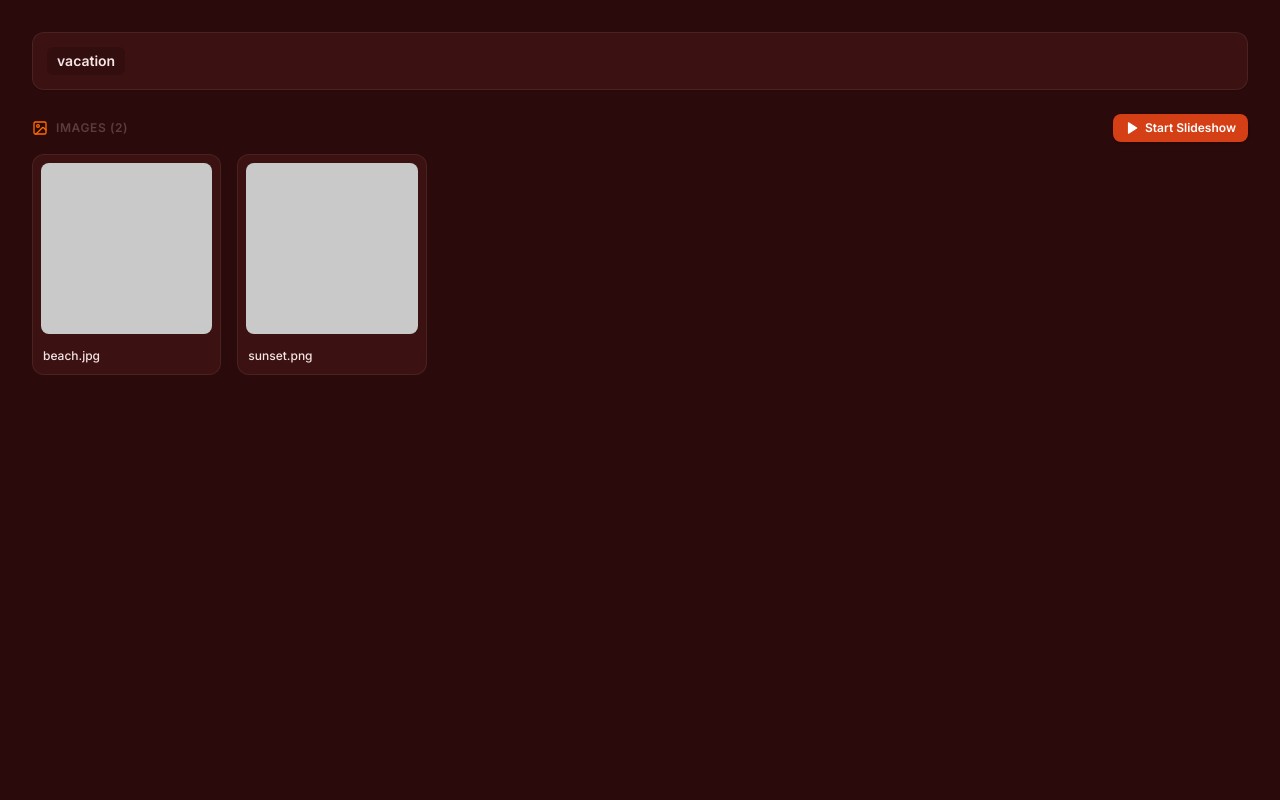
FolderBrowser Component › renders Images section and launches ImageViewerModal when clicking image or Start Slideshow
The image size is (1280, 800).
Check: the heading "Images (2)" is shown, box [56, 120, 128, 136]
Check: the text "beach.jpg" is shown, box [43, 348, 100, 363]
// Click "Start Slideshow" opens viewer
Click the button "Start Slideshow". click: point(1180, 128)
box: [1113, 114, 1248, 142]
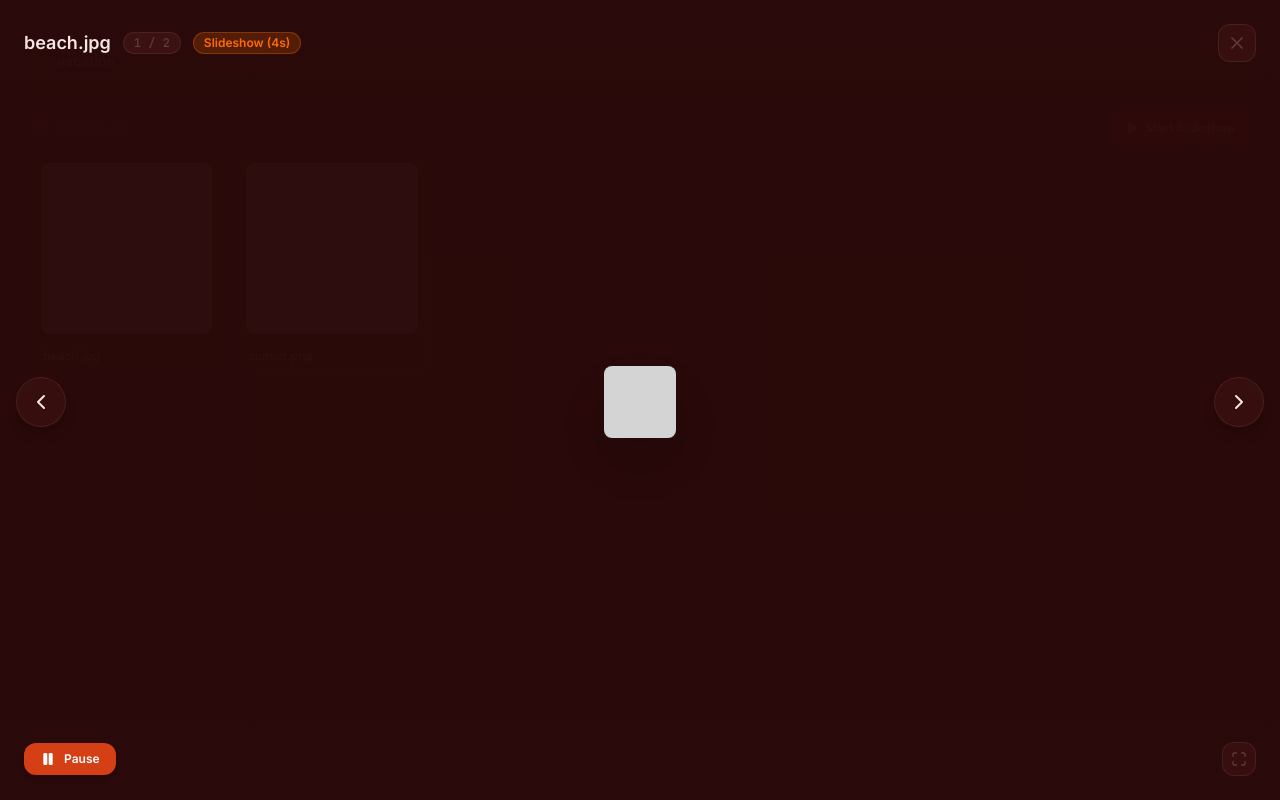
Check: the dialog named "image viewer" is shown
Check: the text "Slideshow (4s)" is shown, box [193, 32, 301, 54]
// Close viewer
Click the button named "close image viewer". click: point(1237, 43)
box: [1218, 24, 1256, 62]
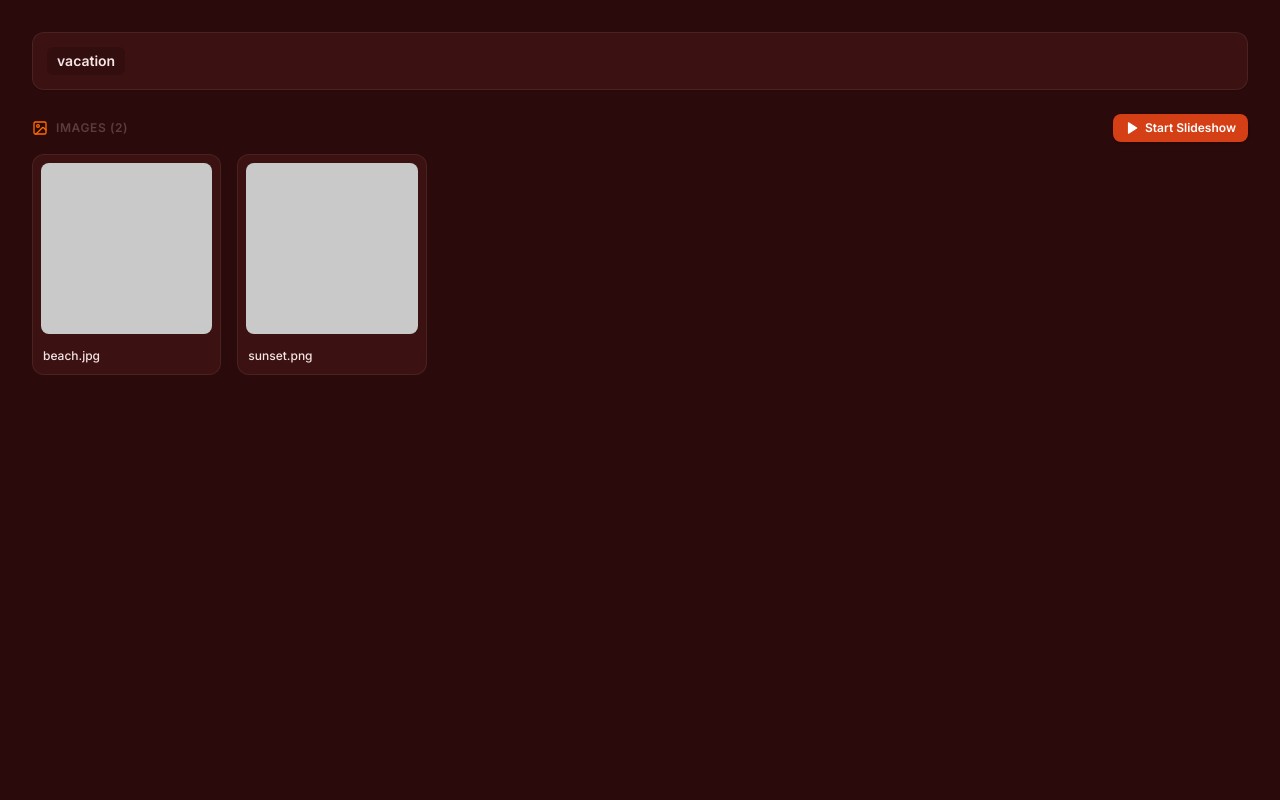
// Click individual image opens viewer at that image
Click the button "sunset.png". click: point(332, 265)
box: [237, 154, 427, 375]
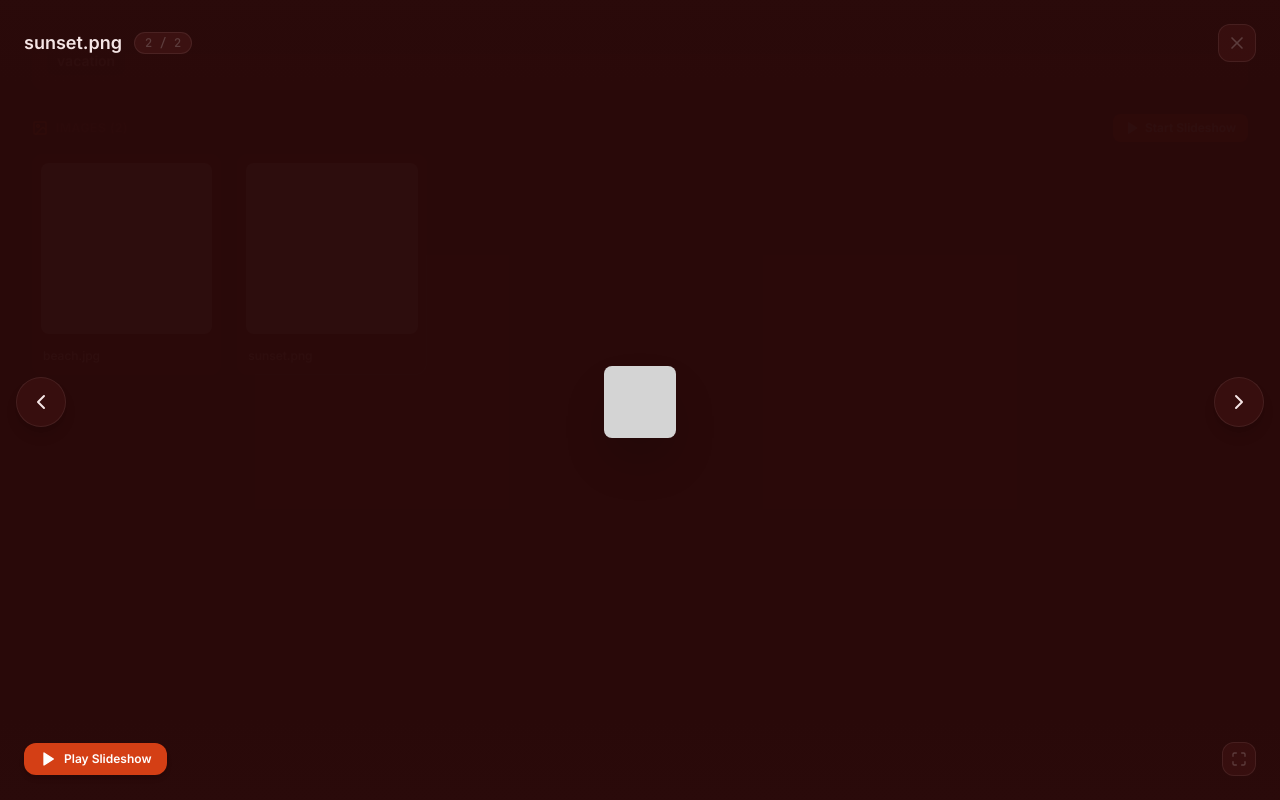
Check: the dialog named "image viewer" is shown
Check: the text "2 / 2" is shown, box [134, 32, 192, 54]
// Close viewer and test keyboard activation
Click the button named "close image viewer". click: point(1237, 43)
box: [1218, 24, 1256, 62]
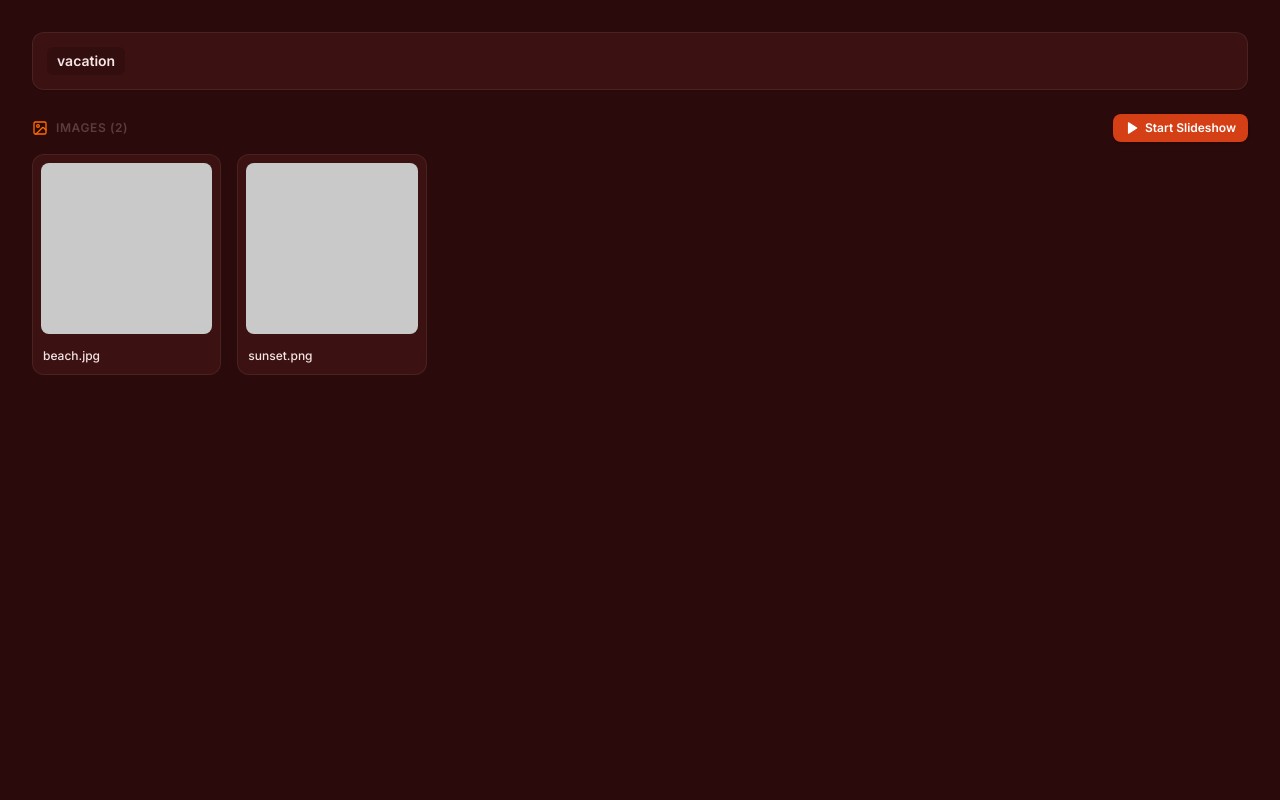
Press Enter in the button "beach.jpg", box [32, 154, 221, 375]
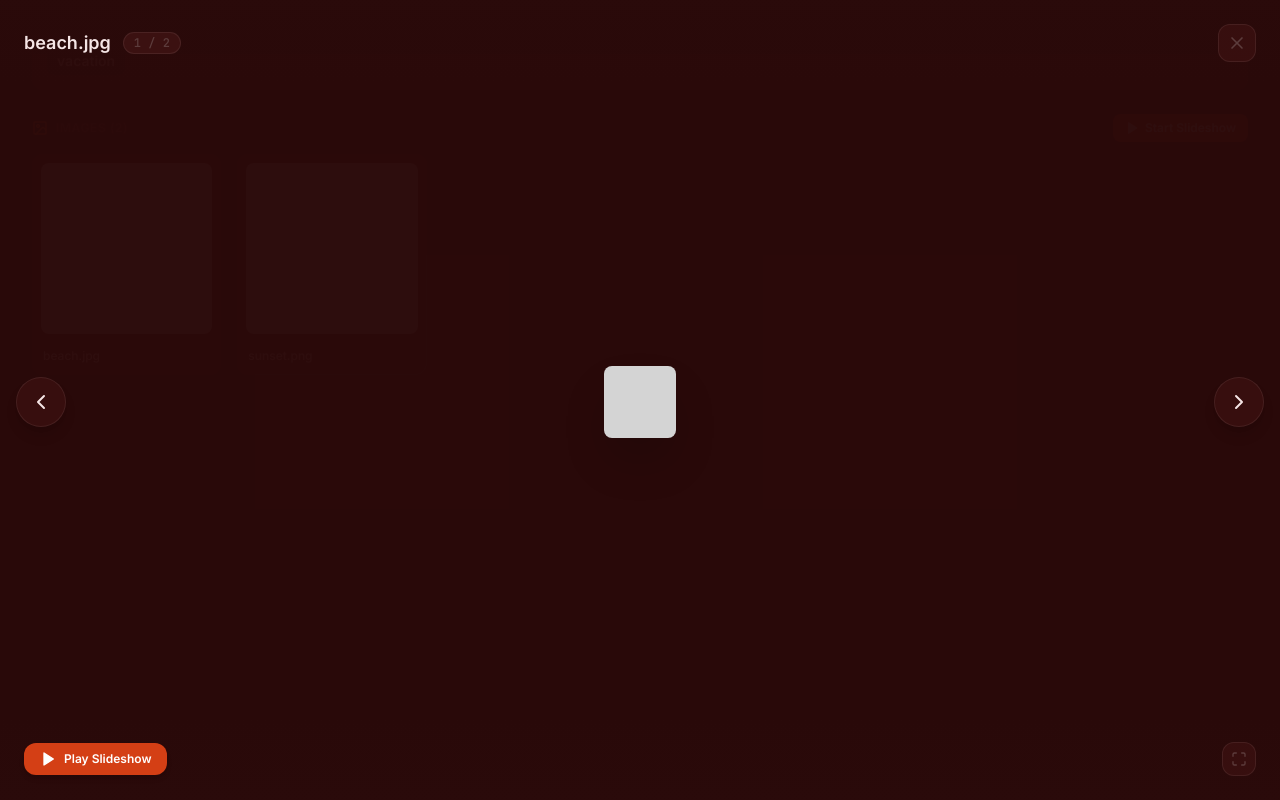
Check: the dialog named "image viewer" is shown
Check: the text "1 / 2" is shown, box [123, 32, 181, 54]
